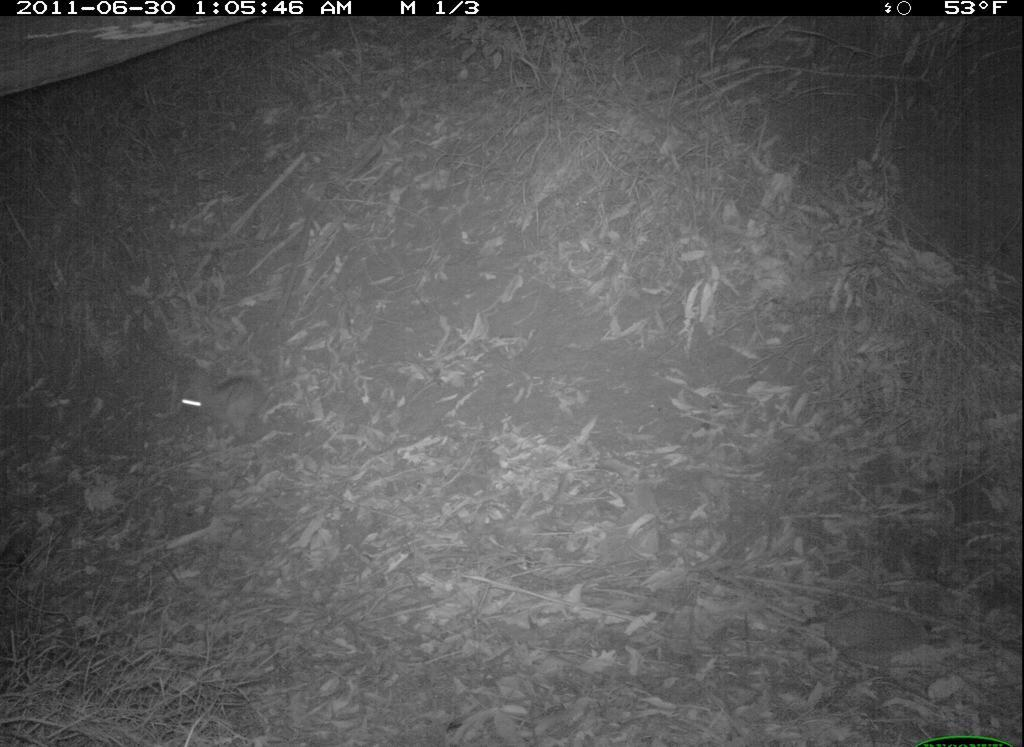rabbit: (168, 349, 280, 445)
